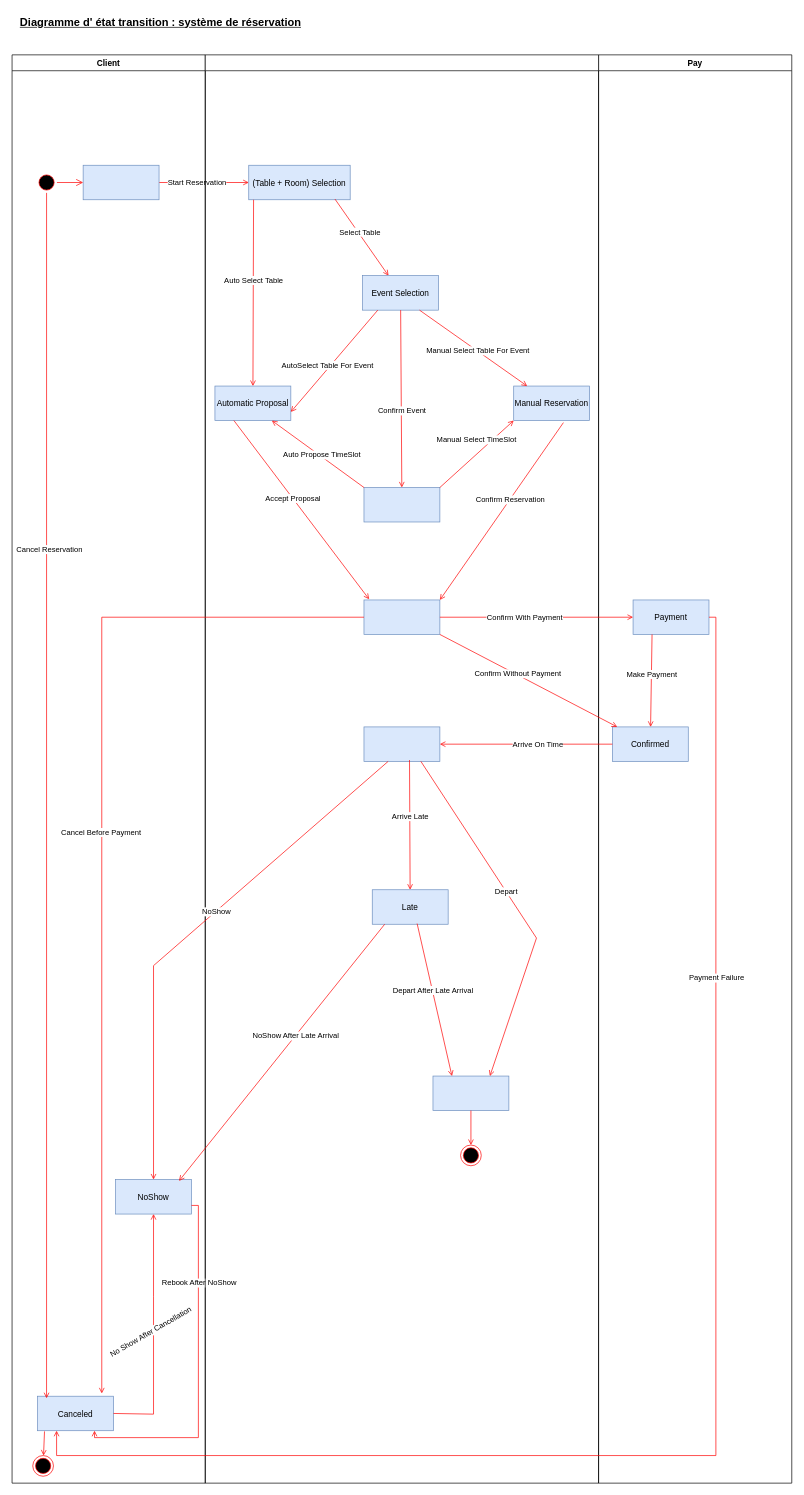
Some shapes in this 804 by 1495 pixel diagram are drawn without their labels. Here are the shapes that lost their labels. From the top down, the box of each, then its label:
(82, 165, 159, 200): idle
(363, 487, 440, 522): Reservation Details
(363, 599, 440, 634): Confirmation
(363, 726, 440, 761): Seated
(205, 54, 599, 1483): System Reservation
(432, 1075, 509, 1111): Completed
